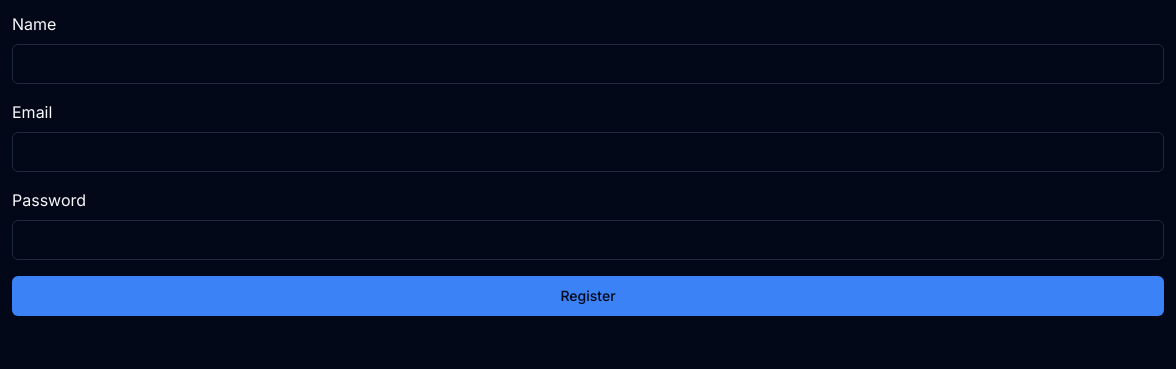
Test: RegisterForm › shows an error message on failed registration
In the field labelled "Name": (588, 64) left=12, top=44, right=1164, bottom=84, type "Test User"
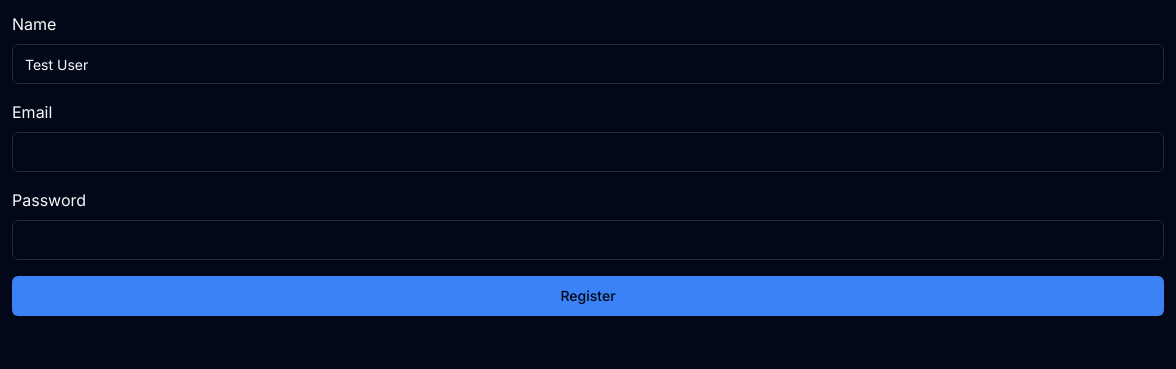
In the field labelled "Email": (588, 152) left=12, top=132, right=1164, bottom=172, type "test@example.com"
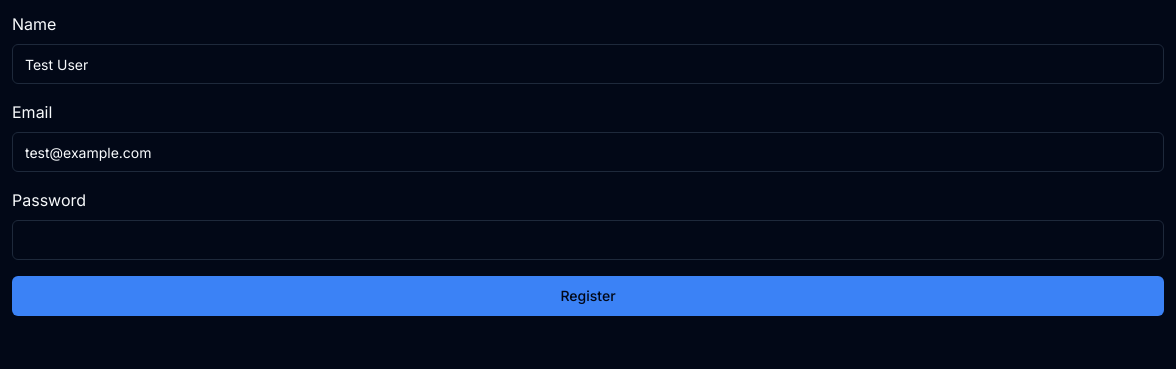
In the password field labelled "Password": (588, 240) left=12, top=220, right=1164, bottom=260, type "password123"
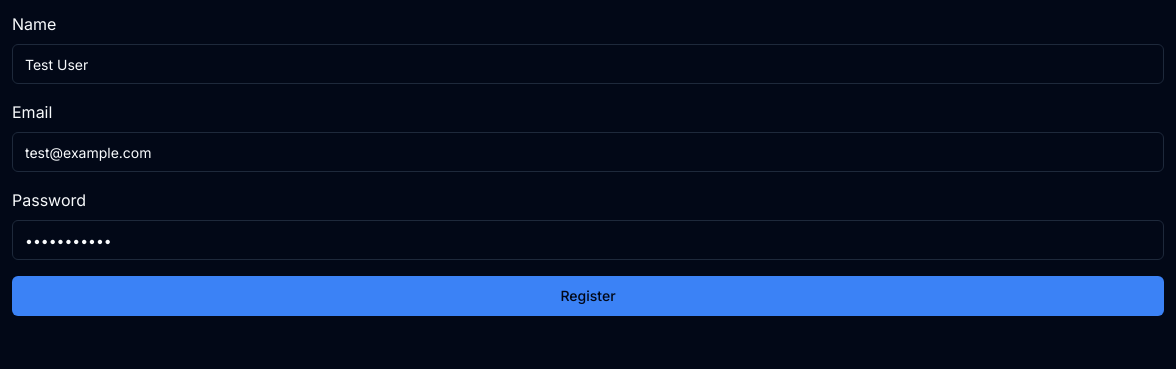
Click the button "Register": click(588, 296) left=12, top=276, right=1164, bottom=316
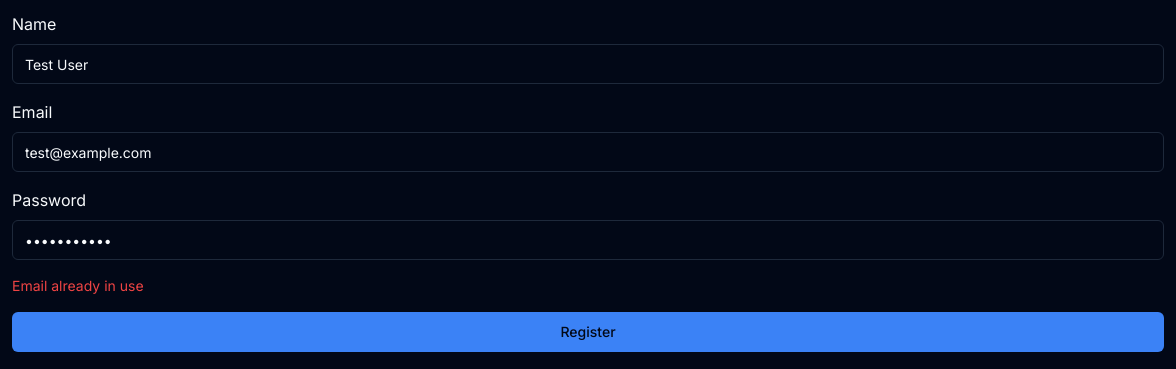
Result: the text "Email already in use" is shown at left=12, top=277, right=144, bottom=294
